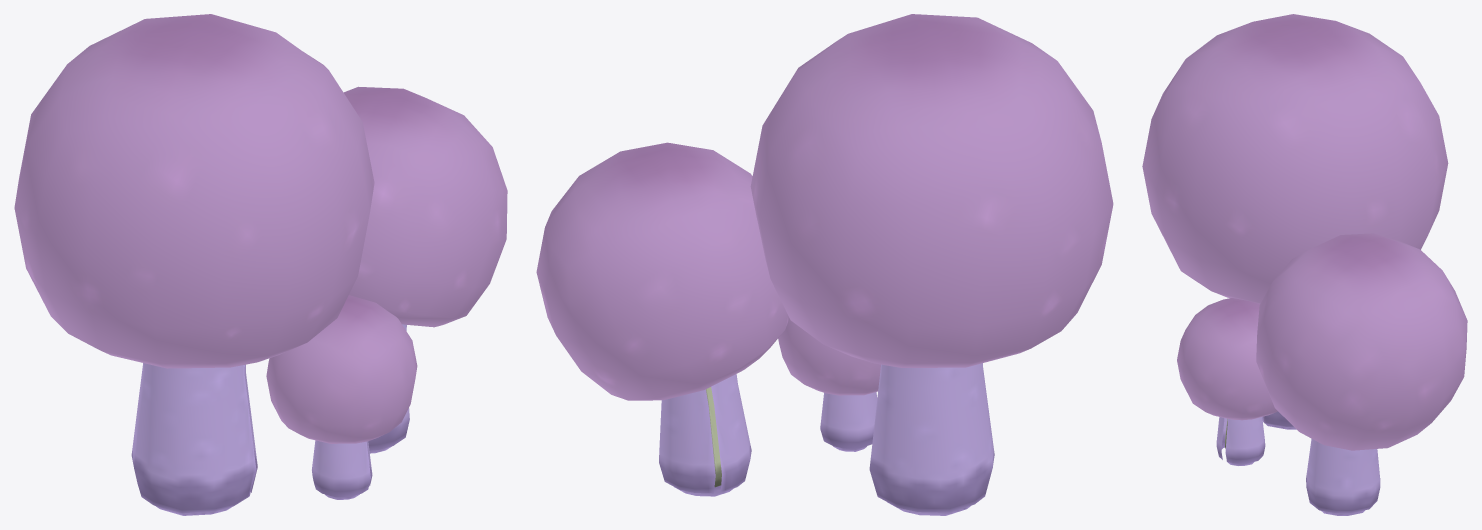
File: houba_pecarka_svitici.glb
3 renders of one model, left to right at view 1: azimuth 30°, elevation 25°; view 2: azimuth 150°, elevation 25°; view 3: azimuth 270°, elevation 25°, orthographic. The views are drawn at different scales.
Parts seen in each view (by area): view 1: noc; view 2: noc, houba_pecarka_svitici; view 3: noc.
Boxes of the visible parts, left/top/right/bottom form: noc: left=14, top=14, right=507, bottom=515; noc: left=536, top=14, right=1113, bottom=515; houba_pecarka_svitici: left=706, top=387, right=721, bottom=487; noc: left=1142, top=14, right=1467, bottom=515.
Size of the model in its own units: 0.113 by 0.1038 by 0.0774.
2 materials, 2 textured.
